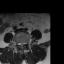CCS_normal: (21, 40, 22, 49)
LFS_normal: (24, 40, 26, 45)
LLS_normal: (22, 40, 24, 47)
RFS_normal: (17, 39, 19, 46)
RLS_normal: (19, 40, 21, 47)
